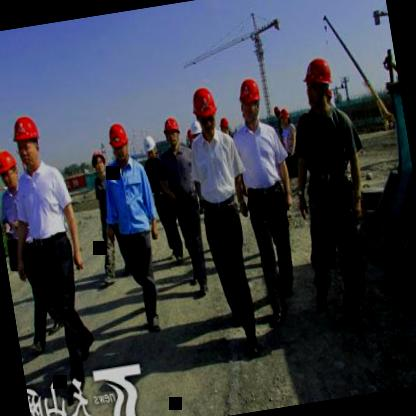helmet: (300, 52, 340, 115), (8, 110, 47, 172), (235, 74, 266, 128), (191, 86, 222, 138), (107, 119, 134, 164), (158, 110, 186, 148), (0, 144, 19, 191), (86, 143, 108, 178), (142, 129, 160, 160), (275, 104, 294, 128)
